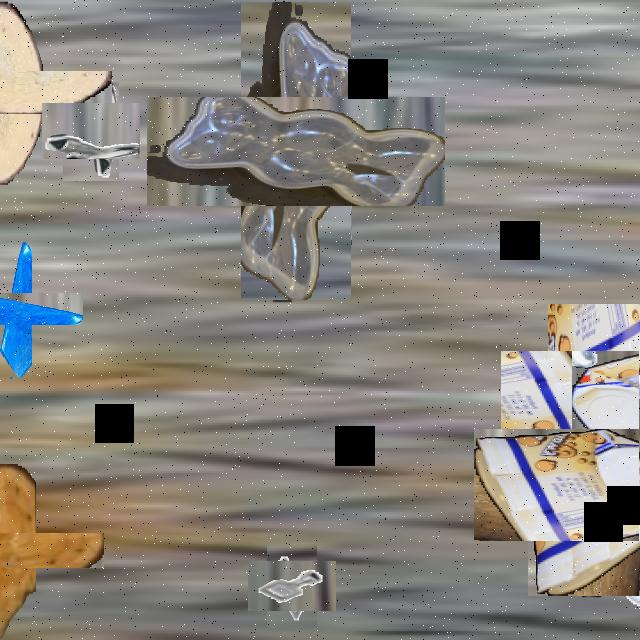glass: (0, 267, 57, 351)
metal: (52, 93, 130, 170), (257, 552, 327, 621), (622, 521, 640, 613)
plastic: (194, 49, 398, 253), (500, 402, 640, 568)
wood: (524, 327, 640, 465), (0, 36, 77, 148), (0, 498, 69, 603)
